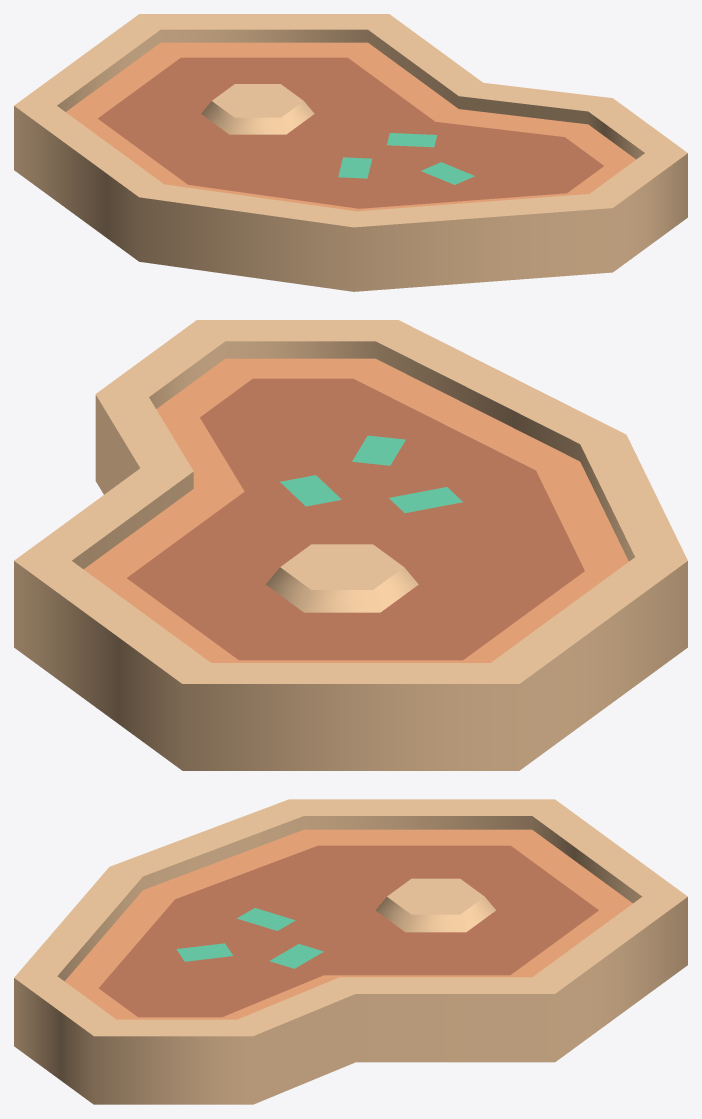
File: meatCooked.obj
3 views of the same model, one above another, from view 1: azimuth 30°, elevation 25°; view 2: azimuth 150°, elevation 25°; view 3: azimuth 270°, elevation 25° (orthographic). The views are drawn at different scales.
Parts seen in each view (by area): view 1: meatCooked; view 2: meatCooked; view 3: meatCooked.
Part boxes in pixels (left/top/right/bottom): meatCooked: left=14, top=14, right=687, bottom=291; meatCooked: left=14, top=320, right=687, bottom=770; meatCooked: left=14, top=799, right=687, bottom=1104.
Bounding box in the file's own units: 0.4785 × 0.0645 × 0.5754.
